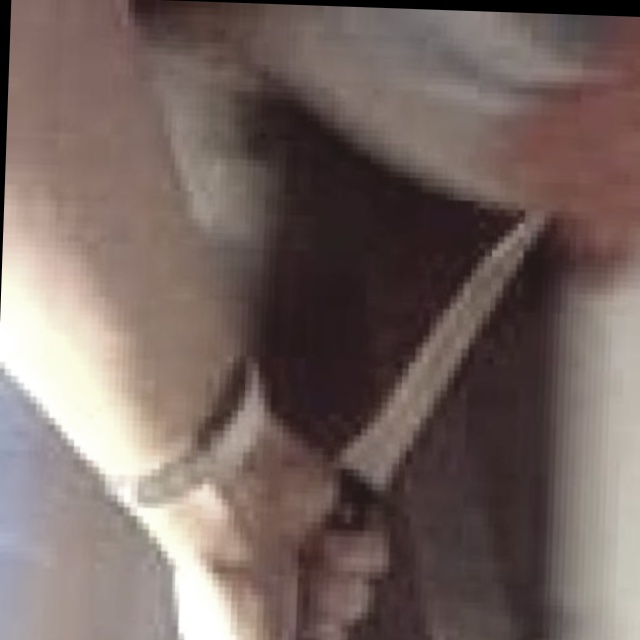Sharp-Object: (335, 196, 549, 529)
